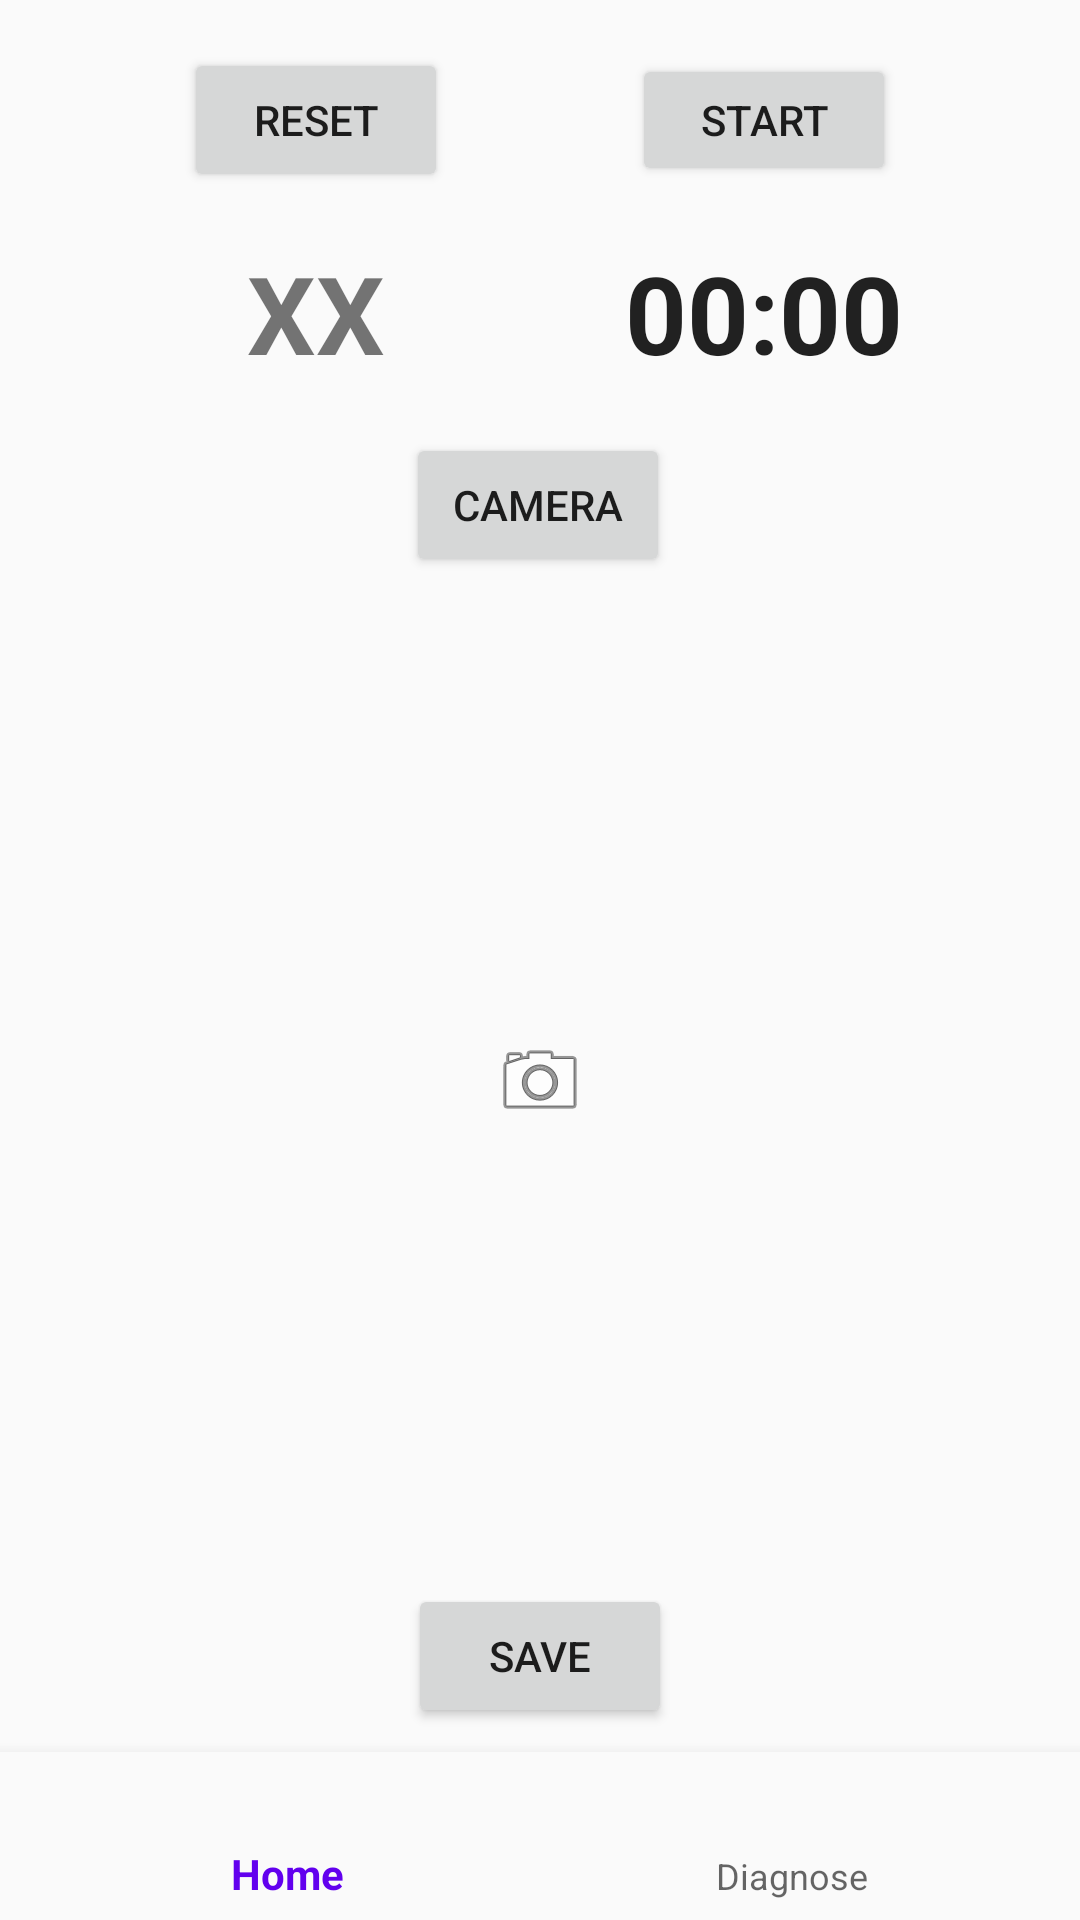

Icon click points for this 1080x1920 phone screenshot, format (x=x, y=y):
chip photo: (x=540, y=1079)
